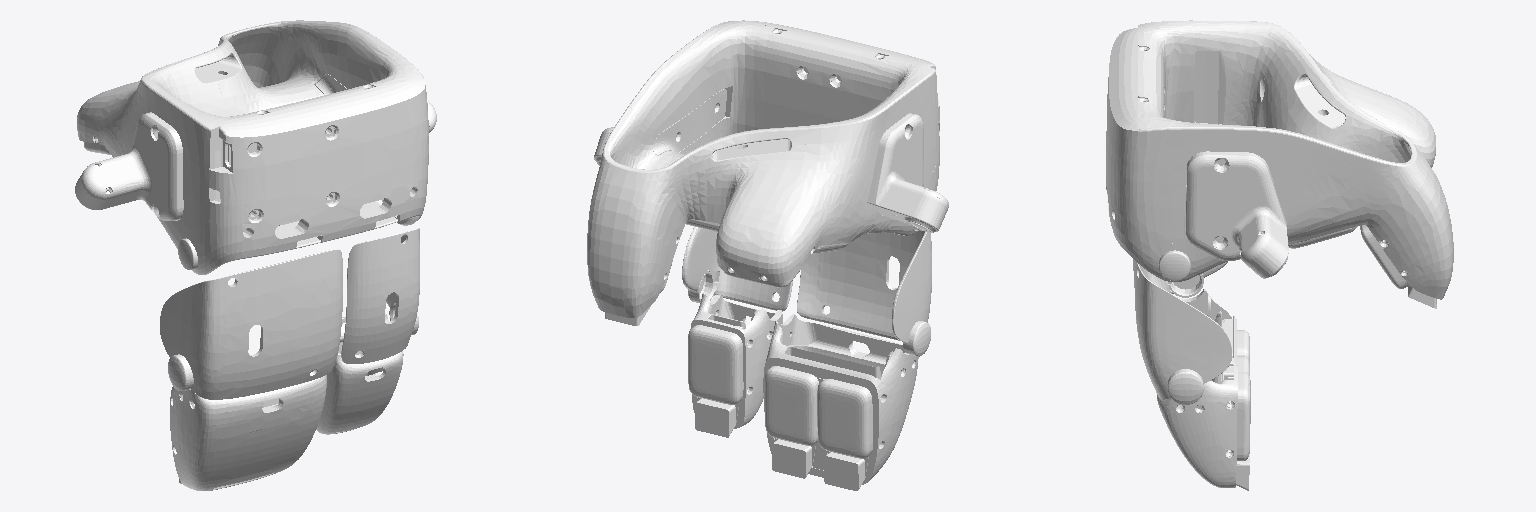
robot.urdf — pxcap_iii_golve_urdf_description_right:
<?xml version="1.0" encoding="utf-8"?>
<!-- This URDF was automatically created by SolidWorks to URDF Exporter! Originally created by Stephen Brawner (brawner@gmail.com) 
     Commit Version: 1.6.0-4-g7f85cfe  Build Version: 1.6.7995.38578
     For more information, please see http://wiki.ros.org/sw_urdf_exporter -->
<robot
  name="pxcap_iii_golve_urdf_description_right">
  <link
    name="right_palm_link">
    <inertial>
      <origin
        xyz="-0.0020376 0.015652 -0.037215"
        rpy="0 0 0" />
      <mass
        value="0.24438" />
      <inertia
        ixx="0.00028858"
        ixy="-1.6939E-05"
        ixz="8.4411E-06"
        iyy="0.00029191"
        iyz="3.7893E-05"
        izz="0.00045963" />
    </inertial>
    <visual>
      <origin
        xyz="0 0 0"
        rpy="0 0 0" />
      <geometry>
        <mesh
          filename="package://pxcap_iii_golve_urdf_description_right/meshes/right_palm_link.STL" />
      </geometry>
      <material
        name="">
        <color
          rgba="1 1 1 1" />
      </material>
    </visual>
    <collision>
      <origin
        xyz="0 0 0"
        rpy="0 0 0" />
      <geometry>
        <mesh
          filename="package://pxcap_iii_golve_urdf_description_right/meshes/right_palm_link.STL" />
      </geometry>
    </collision>
  </link>
  <link
    name="right_index_link_0">
    <inertial>
      <origin
        xyz="0.00024122 -0.0053423 -0.036908"
        rpy="0 0 0" />
      <mass
        value="0.0060056" />
      <inertia
        ixx="1.888E-06"
        ixy="-4.3423E-07"
        ixz="7.7686E-08"
        iyy="2.061E-06"
        iyz="2.3654E-07"
        izz="1.3821E-06" />
    </inertial>
    <visual>
      <origin
        xyz="0 0 0"
        rpy="0 0 0" />
      <geometry>
        <mesh
          filename="package://pxcap_iii_golve_urdf_description_right/meshes/right_index_link_0.STL" />
      </geometry>
      <material
        name="">
        <color
          rgba="1 1 1 1" />
      </material>
    </visual>
    <collision>
      <origin
        xyz="0 0 0"
        rpy="0 0 0" />
      <geometry>
        <mesh
          filename="package://pxcap_iii_golve_urdf_description_right/meshes/right_index_link_0.STL" />
      </geometry>
    </collision>
  </link>
  <joint
    name="right_index_joint_0"
    type="revolute">
    <origin
      xyz="0.03877 -0.022678 -0.063811"
      rpy="0 0 0" />
    <parent
      link="right_palm_link" />
    <child
      link="right_index_link_0" />
    <axis
      xyz="1 0 0" />
    <limit
      lower="-0.0174"
      upper="0.9769"
      effort="0"
      velocity="0" />
  </joint>
  <link
    name="right_index_link_1">
    <inertial>
      <origin
        xyz="-0.0084922 0.007665 -0.025782"
        rpy="0 0 0" />
      <mass
        value="0.013737" />
      <inertia
        ixx="3.0704E-06"
        ixy="-3.522E-09"
        ixz="-4.4968E-08"
        iyy="3.6869E-06"
        iyz="1.9026E-07"
        izz="2.5422E-06" />
    </inertial>
    <visual>
      <origin
        xyz="0 0 0"
        rpy="0 0 0" />
      <geometry>
        <mesh
          filename="package://pxcap_iii_golve_urdf_description_right/meshes/right_index_link_1.STL" />
      </geometry>
      <material
        name="">
        <color
          rgba="1 1 1 1" />
      </material>
    </visual>
    <collision>
      <origin
        xyz="0 0 0"
        rpy="0 0 0" />
      <geometry>
        <mesh
          filename="package://pxcap_iii_golve_urdf_description_right/meshes/right_index_link_1.STL" />
      </geometry>
    </collision>
  </link>
  <joint
    name="right_index_joint_1"
    type="revolute">
    <origin
      xyz="0 0.0044873 -0.054816"
      rpy="0 0 0" />
    <parent
      link="right_index_link_0" />
    <child
      link="right_index_link_1" />
    <axis
      xyz="1 0 0" />
    <limit
      lower="-0.0174"
      upper="0.6978"
      effort="0"
      velocity="0" />
  </joint>
  <link
    name="right_index_tactile_link_0">
    <inertial>
      <origin
        xyz="-3.8644E-05 0.019979 0.0032357"
        rpy="0 0 0" />
      <mass
        value="0.0070418" />
      <inertia
        ixx="1.1259E-06"
        ixy="5.1666E-09"
        ixz="1.4063E-10"
        iyy="3.3615E-07"
        iyz="-1.2721E-09"
        izz="1.389E-06" />
    </inertial>
    <visual>
      <origin
        xyz="0 0 0"
        rpy="0 0 0" />
      <geometry>
        <mesh
          filename="package://pxcap_iii_golve_urdf_description_right/meshes/right_index_tactile_link_0.STL" />
      </geometry>
      <material
        name="">
        <color
          rgba="1 1 1 1" />
      </material>
    </visual>
    <collision>
      <origin
        xyz="0 0 0"
        rpy="0 0 0" />
      <geometry>
        <mesh
          filename="package://pxcap_iii_golve_urdf_description_right/meshes/right_index_tactile_link_0.STL" />
      </geometry>
    </collision>
  </link>
  <joint
    name="right_index_tactile_joint_0"
    type="fixed">
    <origin
      xyz="-0.008452 0.019722 -0.008009"
      rpy="-1.5869 0 0" />
    <parent
      link="right_index_link_1" />
    <child
      link="right_index_tactile_link_0" />
    <axis
      xyz="0 0 0" />
  </joint>
  <link
    name="right_middle_link_0">
    <inertial>
      <origin
        xyz="0.01297 -0.0093083 -0.035567"
        rpy="0 0 0" />
      <mass
        value="0.0095868" />
      <inertia
        ixx="3.2446E-06"
        ixy="1.162E-06"
        ixz="-3.0923E-07"
        iyy="6.6077E-06"
        iyz="3.796E-07"
        izz="5.0106E-06" />
    </inertial>
    <visual>
      <origin
        xyz="0 0 0"
        rpy="0 0 0" />
      <geometry>
        <mesh
          filename="package://pxcap_iii_golve_urdf_description_right/meshes/right_middle_link_0.STL" />
      </geometry>
      <material
        name="">
        <color
          rgba="1 1 1 1" />
      </material>
    </visual>
    <collision>
      <origin
        xyz="0 0 0"
        rpy="0 0 0" />
      <geometry>
        <mesh
          filename="package://pxcap_iii_golve_urdf_description_right/meshes/right_middle_link_0.STL" />
      </geometry>
    </collision>
  </link>
  <joint
    name="right_middle_joint_0"
    type="revolute">
    <origin
      xyz="-0.04223 -0.022678 -0.063811"
      rpy="0 0 0" />
    <parent
      link="right_palm_link" />
    <child
      link="right_middle_link_0" />
    <axis
      xyz="1 0 0" />
    <limit
      lower="-0.0174"
      upper="0.9769"
      effort="0"
      velocity="0" />
  </joint>
  <link
    name="right_middle_link_1">
    <inertial>
      <origin
        xyz="0.021595 0.0070332 -0.034117"
        rpy="0 0 0" />
      <mass
        value="0.027837" />
      <inertia
        ixx="8.688E-06"
        ixy="-1.6596E-07"
        ixz="5.9118E-08"
        iyy="1.6641E-05"
        iyz="9.4387E-07"
        izz="1.3104E-05" />
    </inertial>
    <visual>
      <origin
        xyz="0 0 0"
        rpy="0 0 0" />
      <geometry>
        <mesh
          filename="package://pxcap_iii_golve_urdf_description_right/meshes/right_middle_link_1.STL" />
      </geometry>
      <material
        name="">
        <color
          rgba="1 1 1 1" />
      </material>
    </visual>
    <collision>
      <origin
        xyz="0 0 0"
        rpy="0 0 0" />
      <geometry>
        <mesh
          filename="package://pxcap_iii_golve_urdf_description_right/meshes/right_middle_link_1.STL" />
      </geometry>
    </collision>
  </link>
  <joint
    name="right_middle_joint_1"
    type="revolute">
    <origin
      xyz="0 0.0044873 -0.054816"
      rpy="0 0 0" />
    <parent
      link="right_middle_link_0" />
    <child
      link="right_middle_link_1" />
    <axis
      xyz="1 0 0" />
    <limit
      lower="-0.0174"
      upper="0.6978"
      effort="0"
      velocity="0" />
  </joint>
  <link
    name="right_middle_tactile_link_0">
    <inertial>
      <origin
        xyz="-3.8644E-05 0.019979 0.0032357"
        rpy="0 0 0" />
      <mass
        value="0.0070418" />
      <inertia
        ixx="1.1259E-06"
        ixy="5.1666E-09"
        ixz="1.4063E-10"
        iyy="3.3615E-07"
        iyz="-1.2721E-09"
        izz="1.389E-06" />
    </inertial>
    <visual>
      <origin
        xyz="0 0 0"
        rpy="0 0 0" />
      <geometry>
        <mesh
          filename="package://pxcap_iii_golve_urdf_description_right/meshes/right_middle_tactile_link_0.STL" />
      </geometry>
      <material
        name="">
        <color
          rgba="1 1 1 1" />
      </material>
    </visual>
    <collision>
      <origin
        xyz="0 0 0"
        rpy="0 0 0" />
      <geometry>
        <mesh
          filename="package://pxcap_iii_golve_urdf_description_right/meshes/right_middle_tactile_link_0.STL" />
      </geometry>
    </collision>
  </link>
  <joint
    name="right_middle_tactile_joint_0"
    type="fixed">
    <origin
      xyz="0.0353947709461826 0.0195559730409423 -0.0183554692384683"
      rpy="-1.58685335591322 0 0" />
    <parent
      link="right_middle_link_1" />
    <child
      link="right_middle_tactile_link_0" />
    <axis
      xyz="0 0 0" />
  </joint>
  <link
    name="right_middle_tactile_link_1">
    <inertial>
      <origin
        xyz="-3.8644E-05 0.019979 0.0032357"
        rpy="0 0 0" />
      <mass
        value="0.0070418" />
      <inertia
        ixx="1.1259E-06"
        ixy="5.1666E-09"
        ixz="1.4063E-10"
        iyy="3.3615E-07"
        iyz="-1.2721E-09"
        izz="1.389E-06" />
    </inertial>
    <visual>
      <origin
        xyz="0 0 0"
        rpy="0 0 0" />
      <geometry>
        <mesh
          filename="package://pxcap_iii_golve_urdf_description_right/meshes/right_middle_tactile_link_1.STL" />
      </geometry>
      <material
        name="">
        <color
          rgba="1 1 1 1" />
      </material>
    </visual>
    <collision>
      <origin
        xyz="0 0 0"
        rpy="0 0 0" />
      <geometry>
        <mesh
          filename="package://pxcap_iii_golve_urdf_description_right/meshes/right_middle_tactile_link_1.STL" />
      </geometry>
    </collision>
  </link>
  <joint
    name="right_middle_tactile_joint_1"
    type="fixed">
    <origin
      xyz="0.00987477094618254 0.0195559730409458 -0.0183554692384682"
      rpy="-1.58685335591322 0 0" />
    <parent
      link="right_middle_link_1" />
    <child
      link="right_middle_tactile_link_1" />
    <axis
      xyz="0 0 0" />
  </joint>
  <link
    name="right_palm_tactile_link_0">
    <inertial>
      <origin
        xyz="-0.0003238 0.040726 0.00062225"
        rpy="0 0 0" />
      <mass
        value="0.022509" />
      <inertia
        ixx="1.256E-05"
        ixy="6.6238E-09"
        ixz="1.611E-08"
        iyy="2.039E-06"
        iyz="-7.9531E-08"
        izz="1.4301E-05" />
    </inertial>
    <visual>
      <origin
        xyz="0 0 0"
        rpy="0 0 0" />
      <geometry>
        <mesh
          filename="package://pxcap_iii_golve_urdf_description_right/meshes/right_palm_tactile_link_0.STL" />
      </geometry>
      <material
        name="">
        <color
          rgba="1 1 1 1" />
      </material>
    </visual>
    <collision>
      <origin
        xyz="0 0 0"
        rpy="0 0 0" />
      <geometry>
        <mesh
          filename="package://pxcap_iii_golve_urdf_description_right/meshes/right_palm_tactile_link_0.STL" />
      </geometry>
    </collision>
  </link>
  <joint
    name="right_palm_tactile_joint_0"
    type="fixed">
    <origin
      xyz="0.039263 0.036313 -0.054425"
      rpy="3.1416 0.30957 -1.5709" />
    <parent
      link="right_palm_link" />
    <child
      link="right_palm_tactile_link_0" />
    <axis
      xyz="0 0 0" />
  </joint>
  <link
    name="right_palm_tactile_link_1">
    <inertial>
      <origin
        xyz="-1.0795E-05 0.014414 0.0032632"
        rpy="0 0 0" />
      <mass
        value="0.0053755" />
      <inertia
        ixx="4.421E-07"
        ixy="8.958E-10"
        ixz="-2.4086E-10"
        iyy="2.7965E-07"
        iyz="-1.9347E-09"
        izz="6.6911E-07" />
    </inertial>
    <visual>
      <origin
        xyz="0 0 0"
        rpy="0 0 0" />
      <geometry>
        <mesh
          filename="package://pxcap_iii_golve_urdf_description_right/meshes/right_palm_tactile_link_1.STL" />
      </geometry>
      <material
        name="">
        <color
          rgba="1 1 1 1" />
      </material>
    </visual>
    <collision>
      <origin
        xyz="0 0 0"
        rpy="0 0 0" />
      <geometry>
        <mesh
          filename="package://pxcap_iii_golve_urdf_description_right/meshes/right_palm_tactile_link_1.STL" />
      </geometry>
    </collision>
  </link>
  <joint
    name="right_palm_tactile_joint_1"
    type="fixed">
    <origin
      xyz="-0.044723 0.068242 -0.050265"
      rpy="-3.1416 0.30516 1.5708" />
    <parent
      link="right_palm_link" />
    <child
      link="right_palm_tactile_link_1" />
    <axis
      xyz="0 0 0" />
  </joint>
  <link
    name="right_palm_tactile_link_2">
    <inertial>
      <origin
        xyz="-1.08E-05 0.014414 0.0032632"
        rpy="0 0 0" />
      <mass
        value="0.0053755" />
      <inertia
        ixx="4.421E-07"
        ixy="8.9583E-10"
        ixz="-2.4084E-10"
        iyy="2.7965E-07"
        iyz="-1.9346E-09"
        izz="6.6911E-07" />
    </inertial>
    <visual>
      <origin
        xyz="0 0 0"
        rpy="0 0 0" />
      <geometry>
        <mesh
          filename="package://pxcap_iii_golve_urdf_description_right/meshes/right_palm_tactile_link_2.STL" />
      </geometry>
      <material
        name="">
        <color
          rgba="1 1 1 1" />
      </material>
    </visual>
    <collision>
      <origin
        xyz="0 0 0"
        rpy="0 0 0" />
      <geometry>
        <mesh
          filename="package://pxcap_iii_golve_urdf_description_right/meshes/right_palm_tactile_link_2.STL" />
      </geometry>
    </collision>
  </link>
  <joint
    name="right_palm_tactile_joint_2"
    type="fixed">
    <origin
      xyz="0.029908 0.059271 -0.051345"
      rpy="-2.1214 0.00025767 3.1416" />
    <parent
      link="right_palm_link" />
    <child
      link="right_palm_tactile_link_2" />
    <axis
      xyz="0 0 0" />
  </joint>
  <link
    name="right_palm_tactile_link_3">
    <inertial>
      <origin
        xyz="0 0 0"
        rpy="0 0 0" />
      <mass
        value="0" />
      <inertia
        ixx="0"
        ixy="0"
        ixz="0"
        iyy="0"
        iyz="0"
        izz="0" />
    </inertial>
    <visual>
      <origin
        xyz="0 0 0"
        rpy="0 0 0" />
      <geometry>
        <mesh
          filename="package://pxcap_iii_golve_urdf_description_right/meshes/right_palm_tactile_link_3.STL" />
      </geometry>
      <material
        name="">
        <color
          rgba="1 1 1 1" />
      </material>
    </visual>
    <collision>
      <origin
        xyz="0 0 0"
        rpy="0 0 0" />
      <geometry>
        <mesh
          filename="package://pxcap_iii_golve_urdf_description_right/meshes/right_palm_tactile_link_3.STL" />
      </geometry>
    </collision>
  </link>
  <joint
    name="right_palm_tactile_joint_3"
    type="fixed">
    <origin
      xyz="0.0221118574989706 0.0808517865781429 -0.0797184831818818"
      rpy="-3.14159265345404 0.446752597230184 1.57079632685341" />
    <parent
      link="right_palm_link" />
    <child
      link="right_palm_tactile_link_3" />
    <axis
      xyz="0 0 0" />
  </joint>
</robot>

--- Render facts (derived) ---
3 views of the same robot in one strip: view 1: azimuth 30°, elevation 25°; view 2: azimuth 150°, elevation 25°; view 3: azimuth 270°, elevation 25° (orthographic).
Model pxcap_iii_golve_urdf_description_right with 12 links and 11 joints (4 revolute, 7 fixed), rooted at right_palm_link, posed every joint at zero.
Visible links, largest first — view 1: right_palm_link, right_middle_link_0, right_middle_link_1, right_index_link_0, right_index_link_1; view 2: right_palm_link, right_middle_link_0, right_middle_link_1, right_middle_tactile_link_1, right_index_tactile_link_0, right_middle_tactile_link_0, right_index_link_1, right_index_link_0; view 3: right_palm_link, right_index_link_0, right_index_link_1, right_index_tactile_link_0, right_middle_link_1, right_middle_link_0, right_palm_tactile_link_2.
Boxes of the visible links, x1,y1,x2,y2 form: right_palm_link: (75,20,436,274); right_middle_link_0: (160,249,342,399); right_middle_link_1: (170,369,326,490); right_index_link_0: (341,228,419,363); right_index_link_1: (316,313,403,434); right_palm_link: (587,20,948,317); right_middle_link_0: (797,231,931,356); right_middle_link_1: (763,314,918,484); right_middle_tactile_link_1: (817,379,872,490); right_index_tactile_link_0: (688,325,743,437); right_middle_tactile_link_0: (765,366,818,478); right_index_link_1: (690,293,782,428); right_index_link_0: (682,227,792,311); right_palm_link: (1106,20,1453,299); right_index_link_0: (1135,261,1231,404); right_index_link_1: (1157,364,1237,487); right_index_tactile_link_0: (1228,372,1250,490); right_middle_link_1: (1178,289,1236,364); right_middle_link_0: (1133,259,1227,297); right_palm_tactile_link_2: (1360,225,1408,288).
Size in the robot's own frame: 0.1662 by 0.1431 by 0.1819 metres.
12 mesh visuals loaded from 12 distinct referenced files (12 binary STL).
